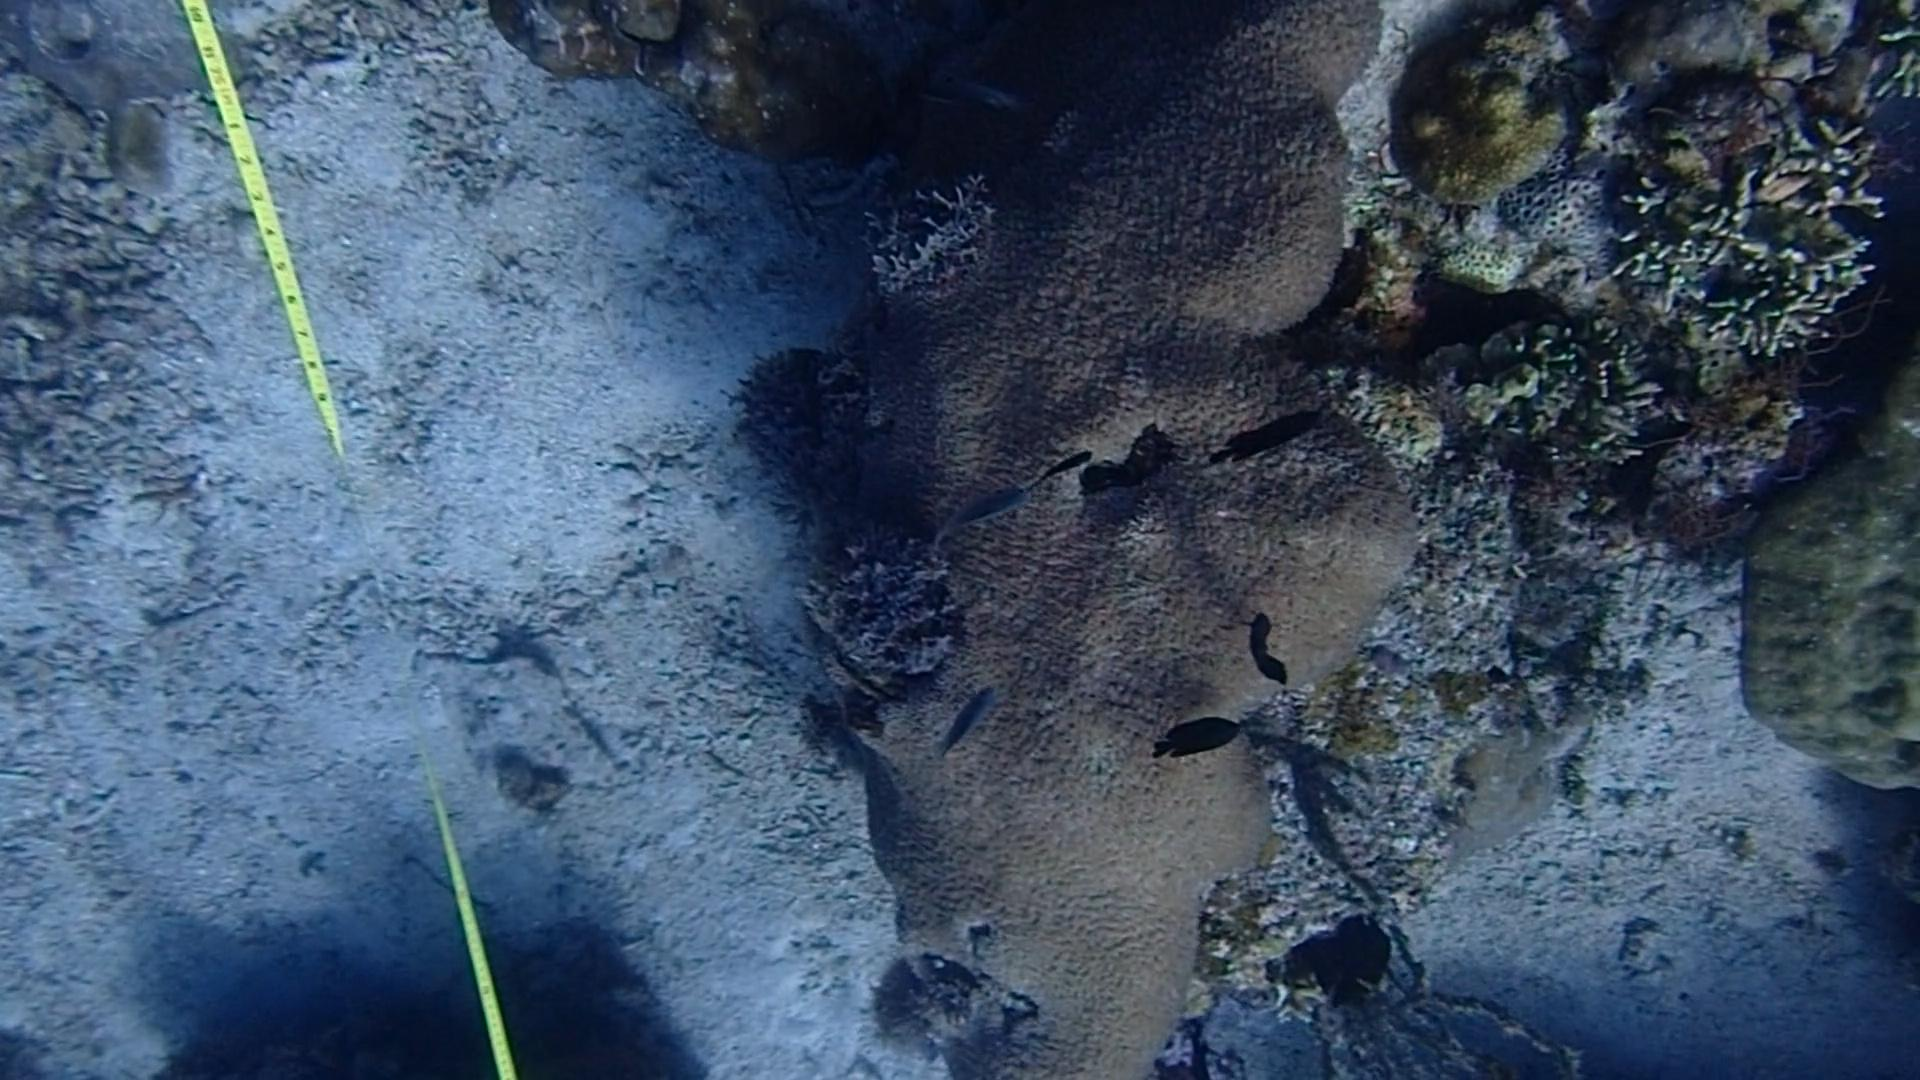Dark Fish: (1217, 398, 1325, 475), (1146, 709, 1251, 777), (1236, 607, 1290, 691), (1039, 439, 1096, 479)
Light Fish: (931, 476, 1036, 560), (926, 691, 1009, 771), (945, 59, 1038, 125)
